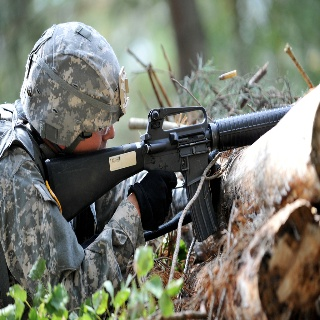rifle: (42, 98, 294, 244)
